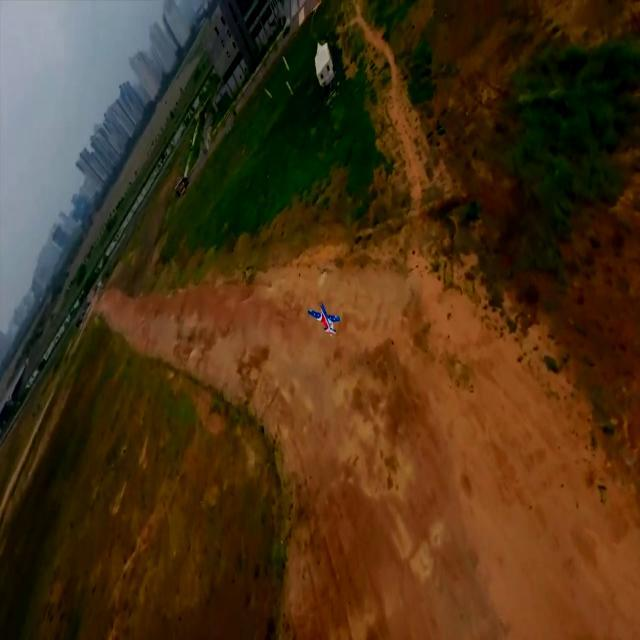iha: (306, 302, 337, 335)
